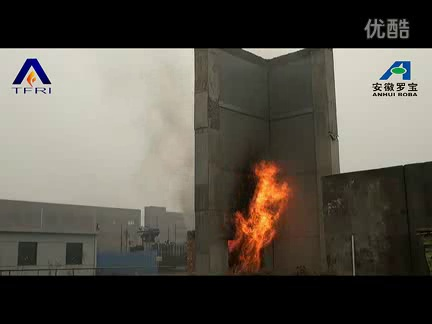fire: (227, 161, 291, 275)
